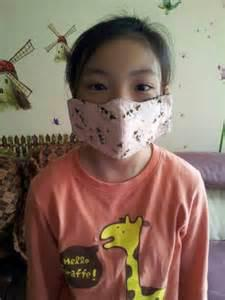OK: (74, 63, 167, 156)
